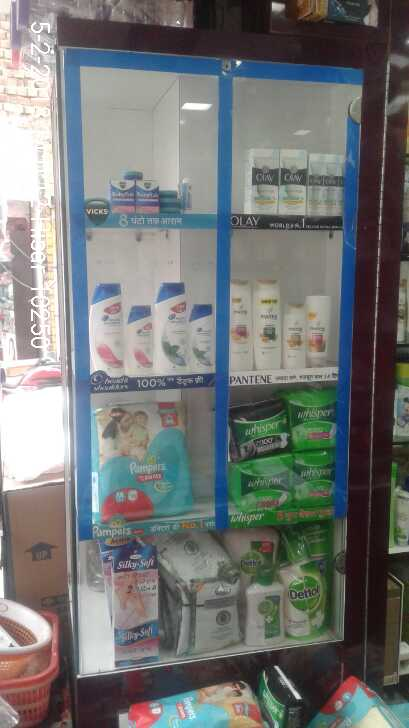beauty: (85, 280, 124, 377), (156, 283, 190, 372), (308, 145, 343, 224), (257, 274, 283, 371), (273, 140, 307, 214), (230, 280, 255, 373), (124, 305, 157, 373), (243, 147, 274, 219), (303, 293, 328, 367), (189, 308, 214, 374), (281, 304, 305, 366)
pharmacy: (78, 392, 202, 510), (228, 398, 292, 459), (215, 463, 298, 505), (291, 390, 339, 453), (295, 444, 340, 507), (108, 156, 156, 213)
